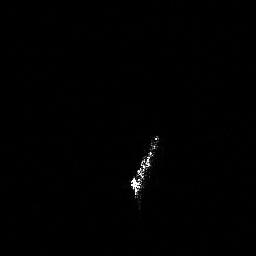ship: (125, 131, 164, 204)
